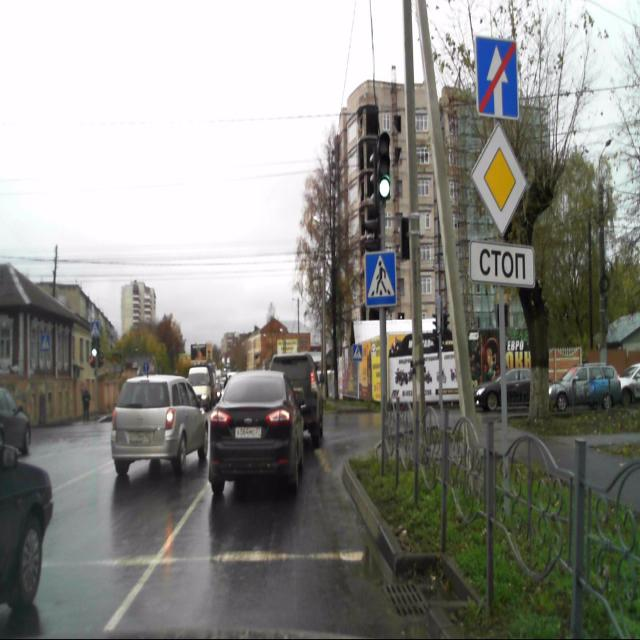road sign: (471, 123, 526, 235), (475, 36, 519, 120), (469, 241, 534, 286), (365, 252, 396, 306)
